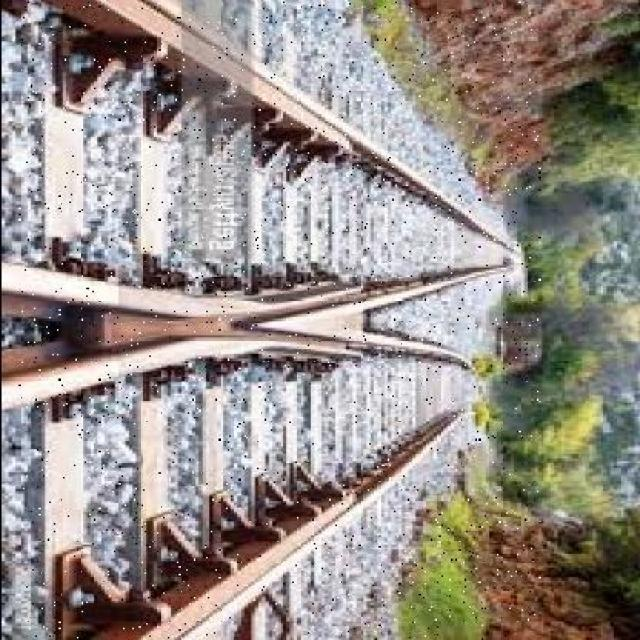rail: (17, 2, 538, 640)
